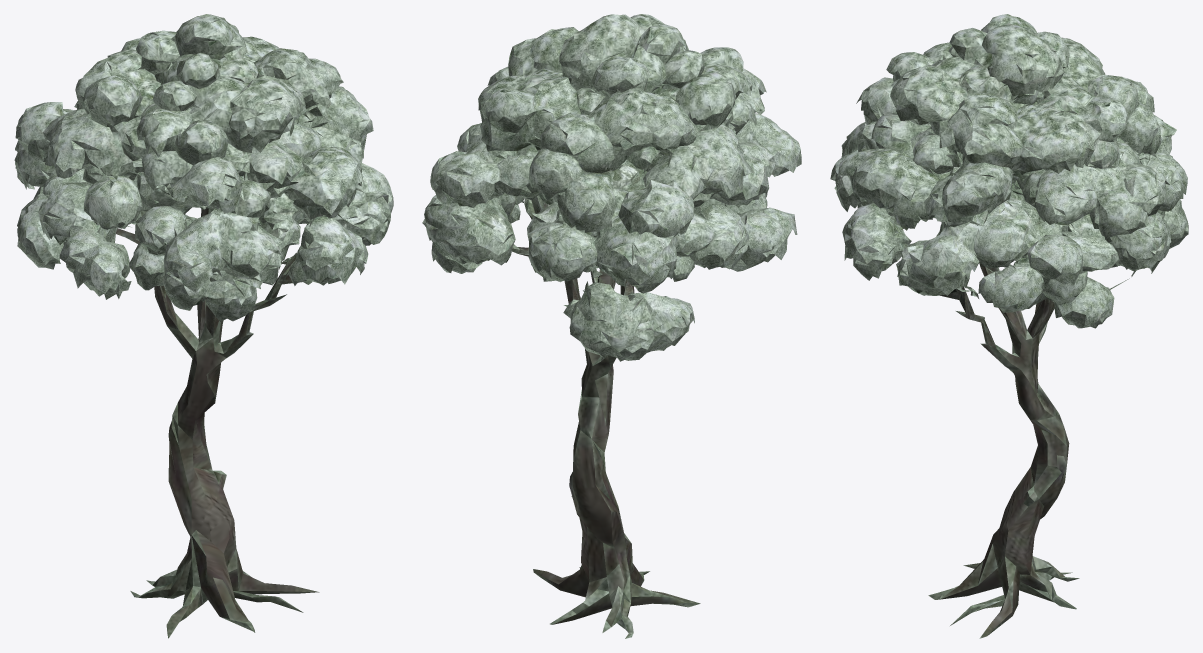
Rendered from tree-common-snow.glb.
3 renders of one model, left to right at view 1: azimuth 30°, elevation 25°; view 2: azimuth 150°, elevation 25°; view 3: azimuth 270°, elevation 25°, orthographic. The views are drawn at different scales.
Visible parts, largest first — view 1: Mesh_0; view 2: Mesh_0; view 3: Mesh_0.
Part boxes in pixels (x1,y1,x2,y2): Mesh_0: (14,14,393,638); Mesh_0: (422,14,801,638); Mesh_0: (830,14,1188,638).
Bounding box in the file's own units: 4.39 × 8 × 4.57.
1 material, 1 textured.
